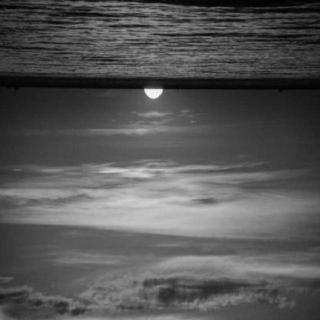other: (134, 78, 174, 106)
